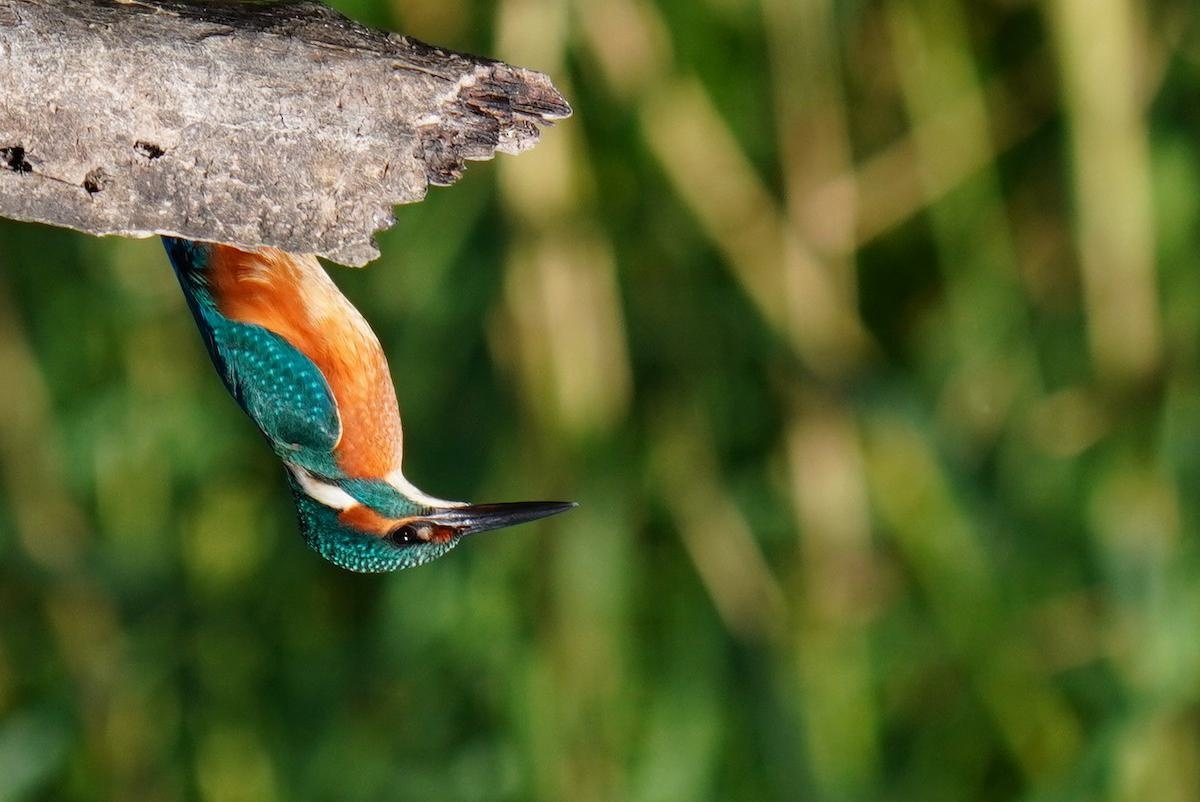kingfisher: (166, 237, 620, 573)
